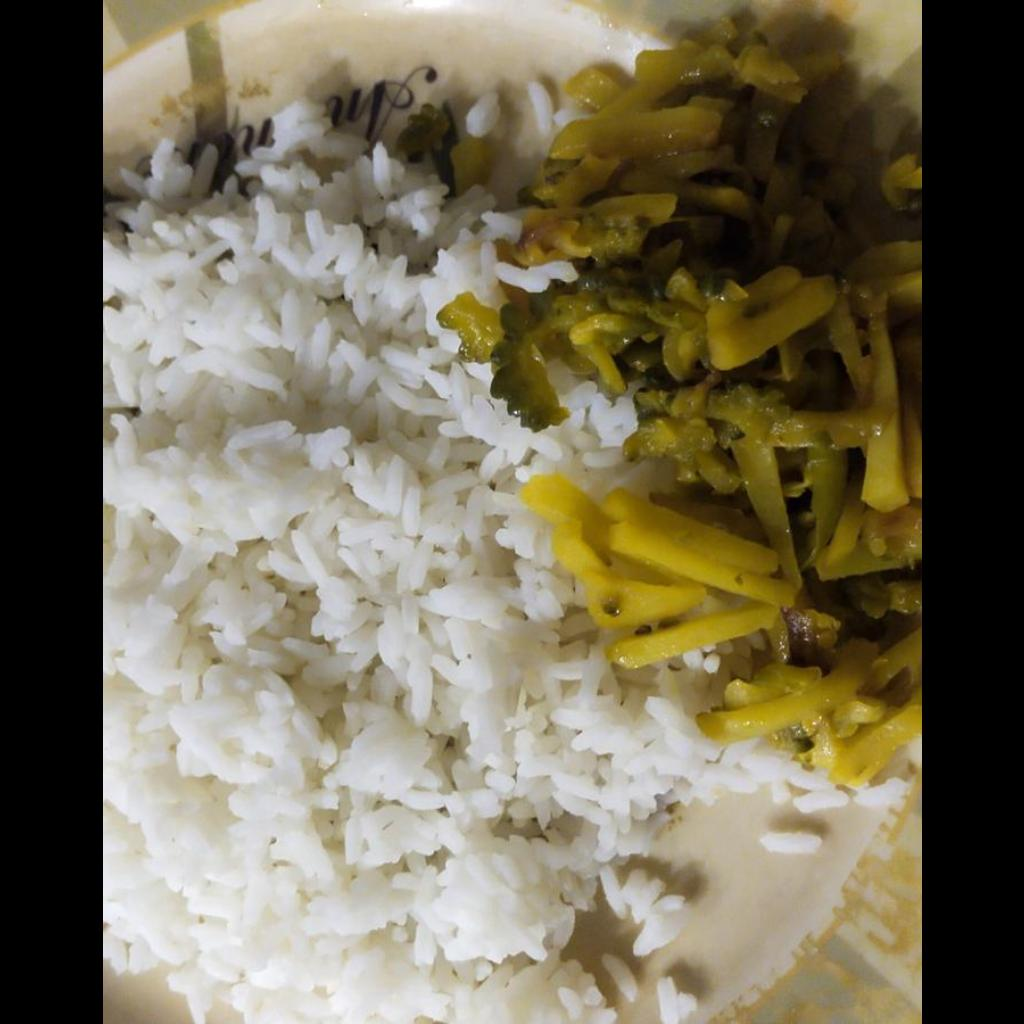rice: (102, 95, 837, 1023)
vegetable: (494, 43, 920, 779)
